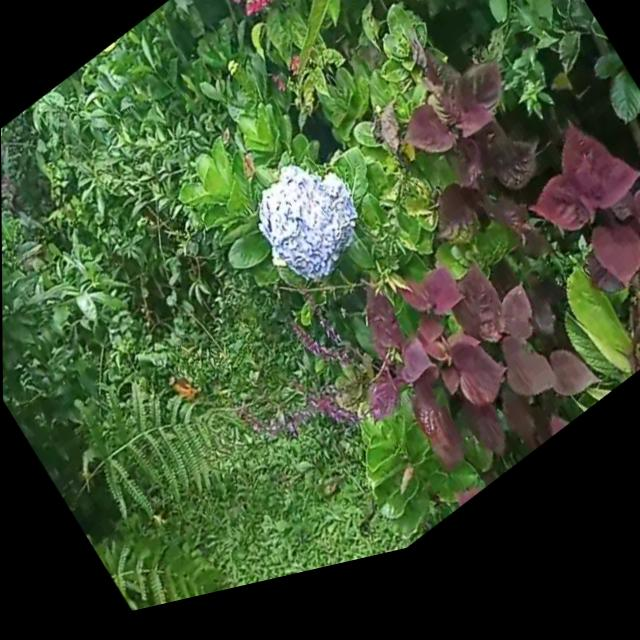Flower: (235, 134, 384, 328)
